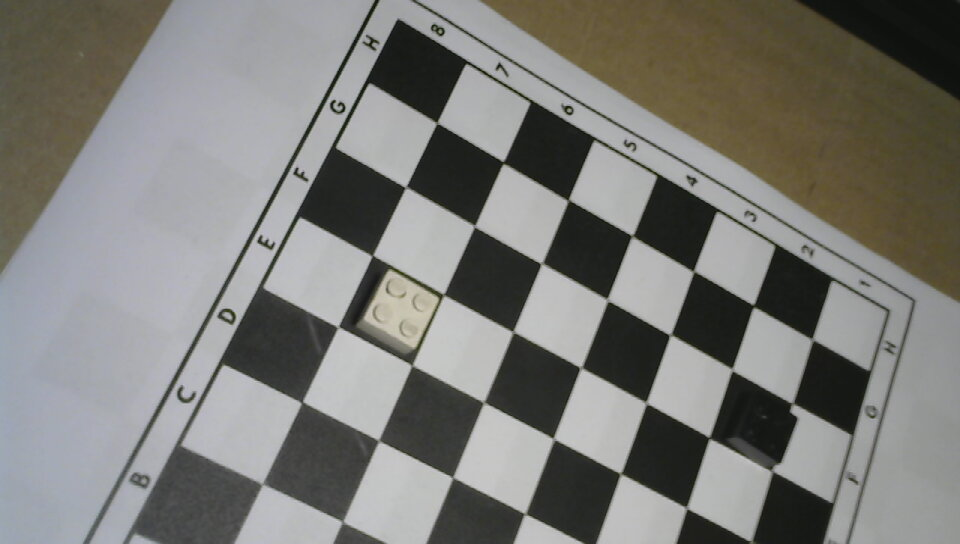bp: (715, 384, 803, 469)
